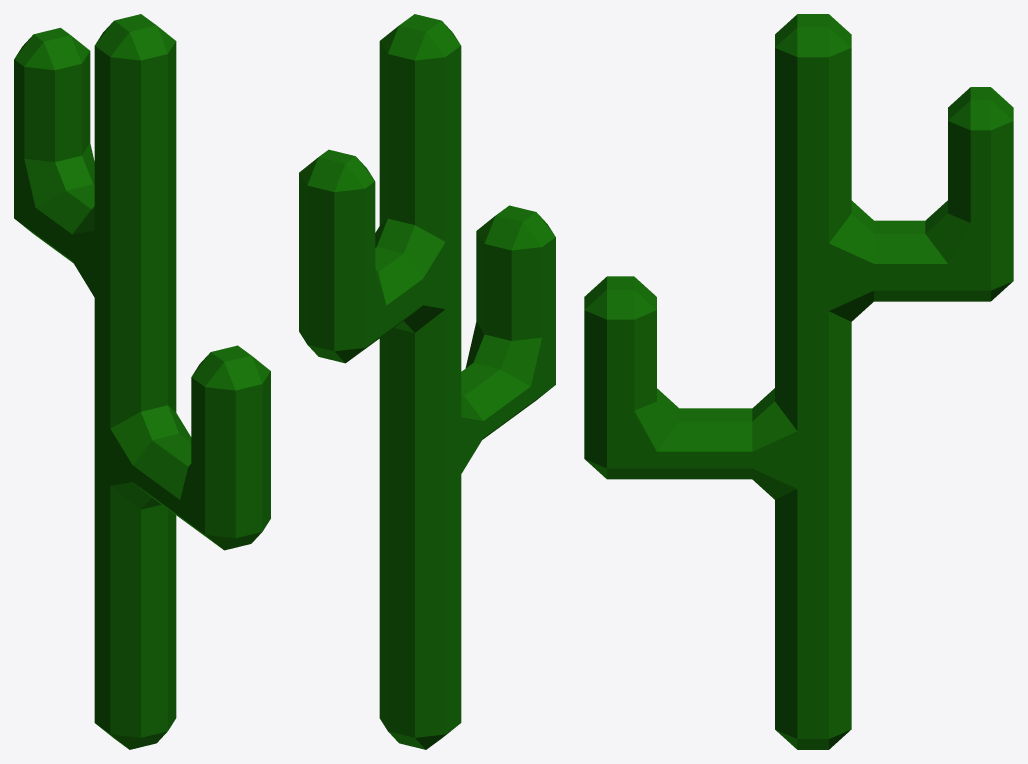
The model's file is Cactus_2.fbx.
3 renders of one model, left to right at view 1: azimuth 30°, elevation 25°; view 2: azimuth 150°, elevation 25°; view 3: azimuth 270°, elevation 25°, orthographic.
Visible parts, largest first — view 1: Cube; view 2: Cube; view 3: Cube.
Boxes of the visible parts, left/top/right/bottom form: Cube: left=14, top=14, right=270, bottom=749; Cube: left=299, top=14, right=555, bottom=749; Cube: left=584, top=14, right=1013, bottom=749.
Bounding box in the file's own units: 200 × 2082 × 1121.
